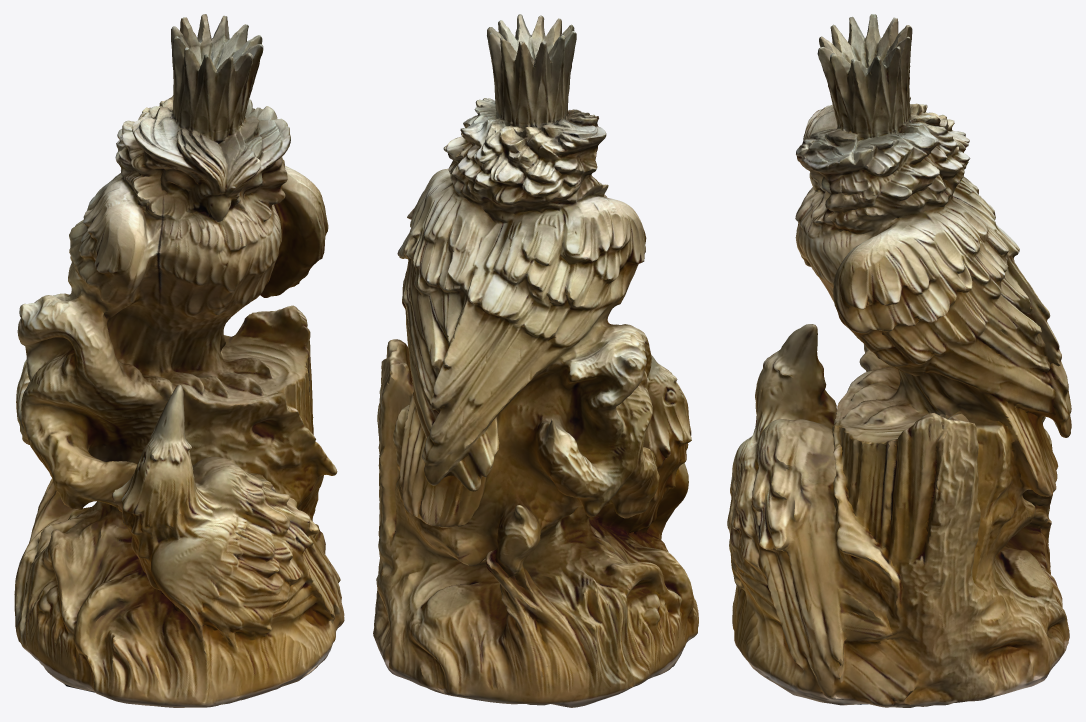
The model's file is Birds.gltf.
The picture shows the model from 3 angles, left to right: view 1: azimuth 30°, elevation 25°; view 2: azimuth 150°, elevation 25°; view 3: azimuth 270°, elevation 25°; orthographic projection. The views are drawn at different scales.
Visible parts, largest first — view 1: nodes[0]; view 2: nodes[0]; view 3: nodes[0].
Part boxes in pixels (x1,y1,x2,y2): nodes[0]: [14, 14, 344, 707]; nodes[0]: [373, 14, 698, 707]; nodes[0]: [727, 14, 1071, 707].
Size of the model in its own units: 0.5576 by 1.18 by 0.5865.
2 materials, 1 textured.
